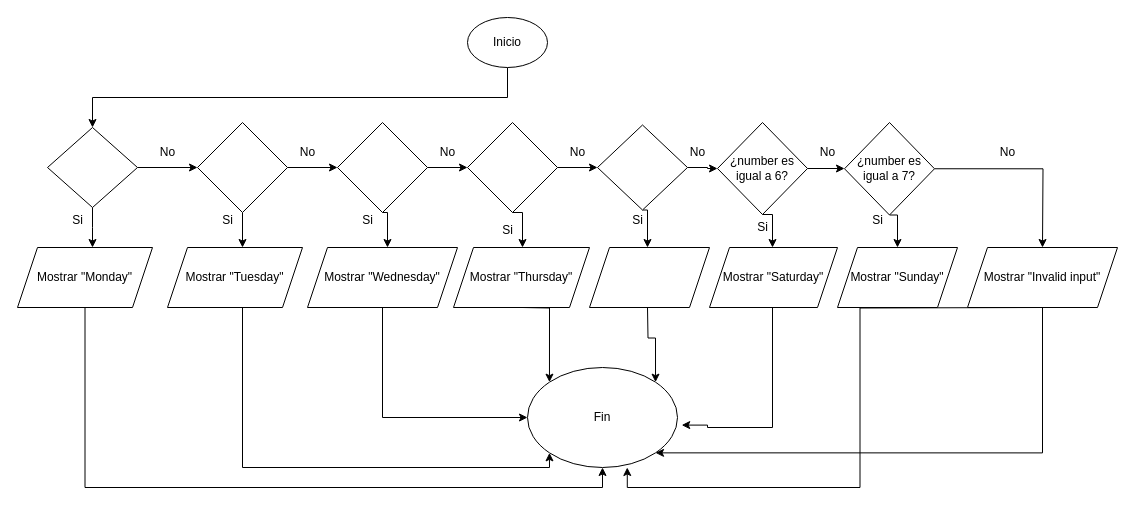
Image size: 1135x513. Some labels were removed from this diagram. Each missing label, with the box of its shape:
Mostrar "Friday": (588, 246, 710, 308)
¿number es igual a 1?: (46, 126, 138, 208)
¿number es igual a 2?: (196, 122, 288, 212)
¿number es igual a 3?: (336, 122, 428, 212)
¿number es igual a 4 ?: (466, 122, 558, 212)
¿number es igual a 5?: (596, 124, 688, 210)
